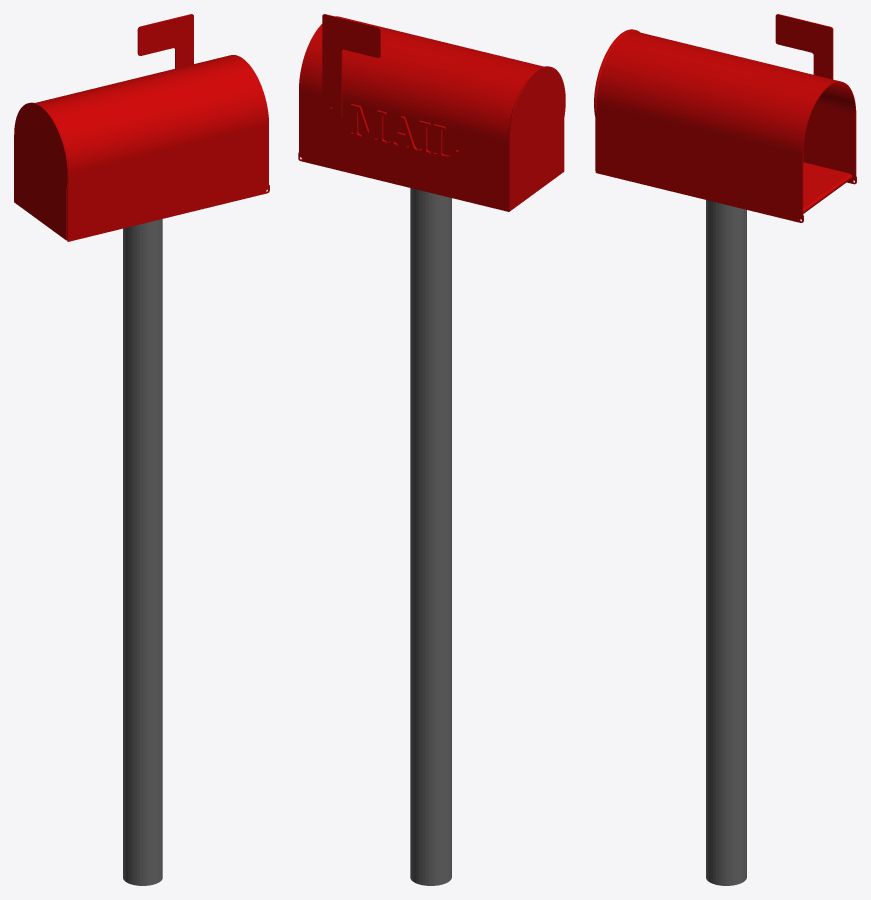
File: mailbox.obj
3 views of the same model, side by side, from view 1: azimuth 30°, elevation 25°; view 2: azimuth 150°, elevation 25°; view 3: azimuth 330°, elevation 25° (orthographic). The views are drawn at different scales.
Parts seen in each view (by area): view 1: Mailbox_Mailbox.001; view 2: Mailbox_Mailbox.001; view 3: Mailbox_Mailbox.001.
Part boxes in pixels (x1,y1,x2,y2): Mailbox_Mailbox.001: [14, 14, 269, 885]; Mailbox_Mailbox.001: [298, 14, 565, 885]; Mailbox_Mailbox.001: [594, 14, 856, 885].
Bounding box in the file's own units: 1.1 × 4.27 × 0.5081.
